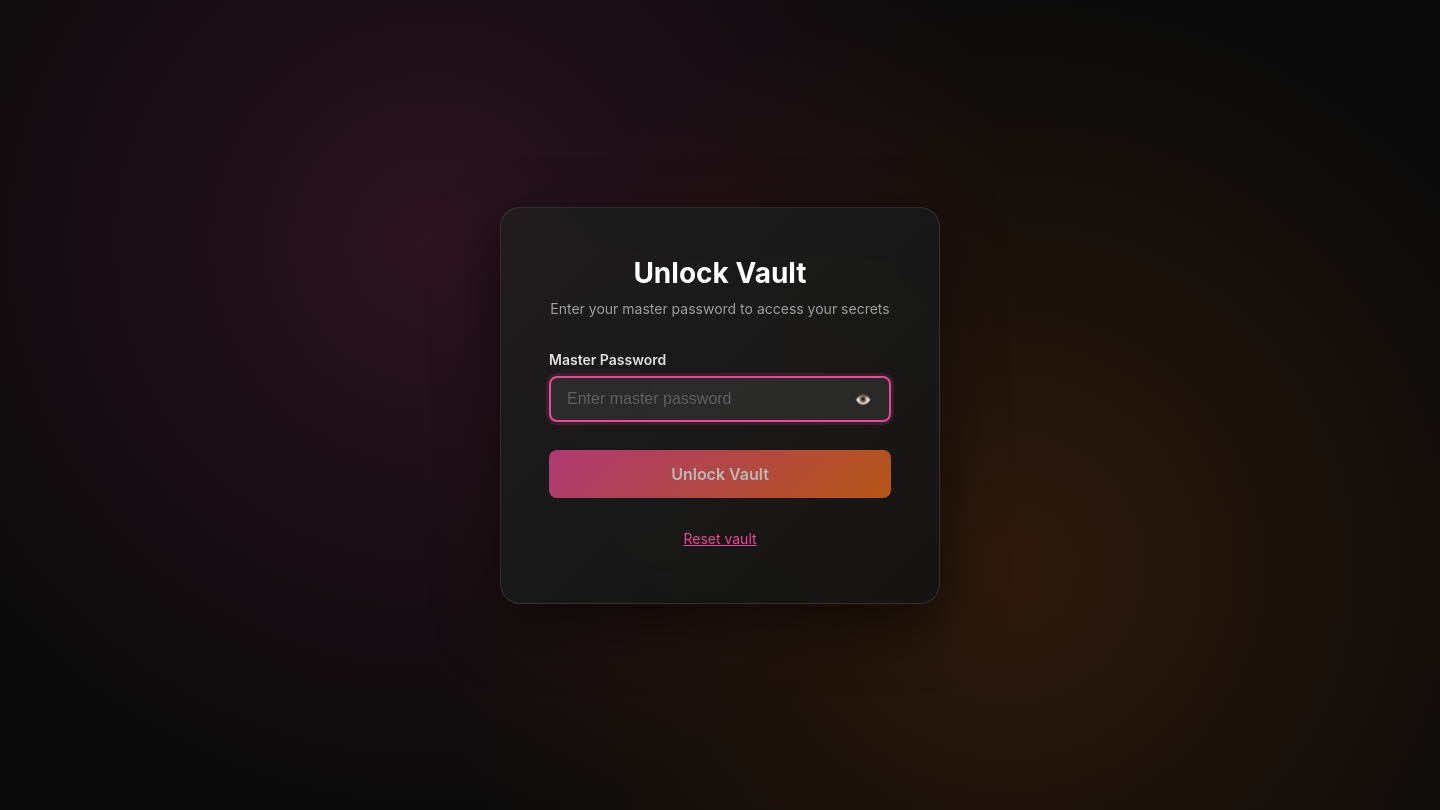
UnlockScreen › shows error message on incorrect password
This screenshot has width=1440, height=810.
Step 1. Type "wrongpassword" into the password field labelled "Master Password" → (720, 398), box [549,376,891,422]
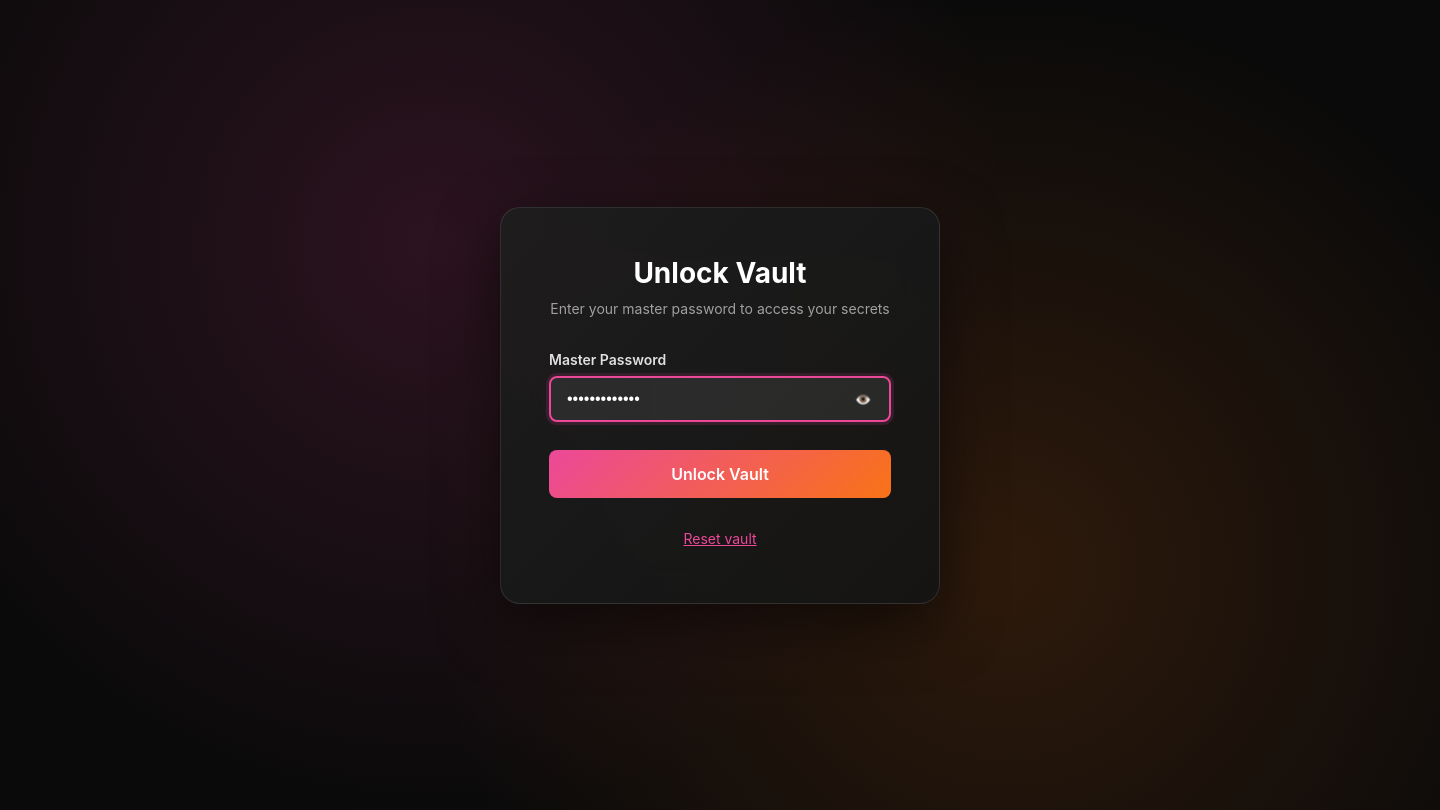
Step 2. Click the button "Unlock Vault" → click(720, 474), box [549,450,891,498]
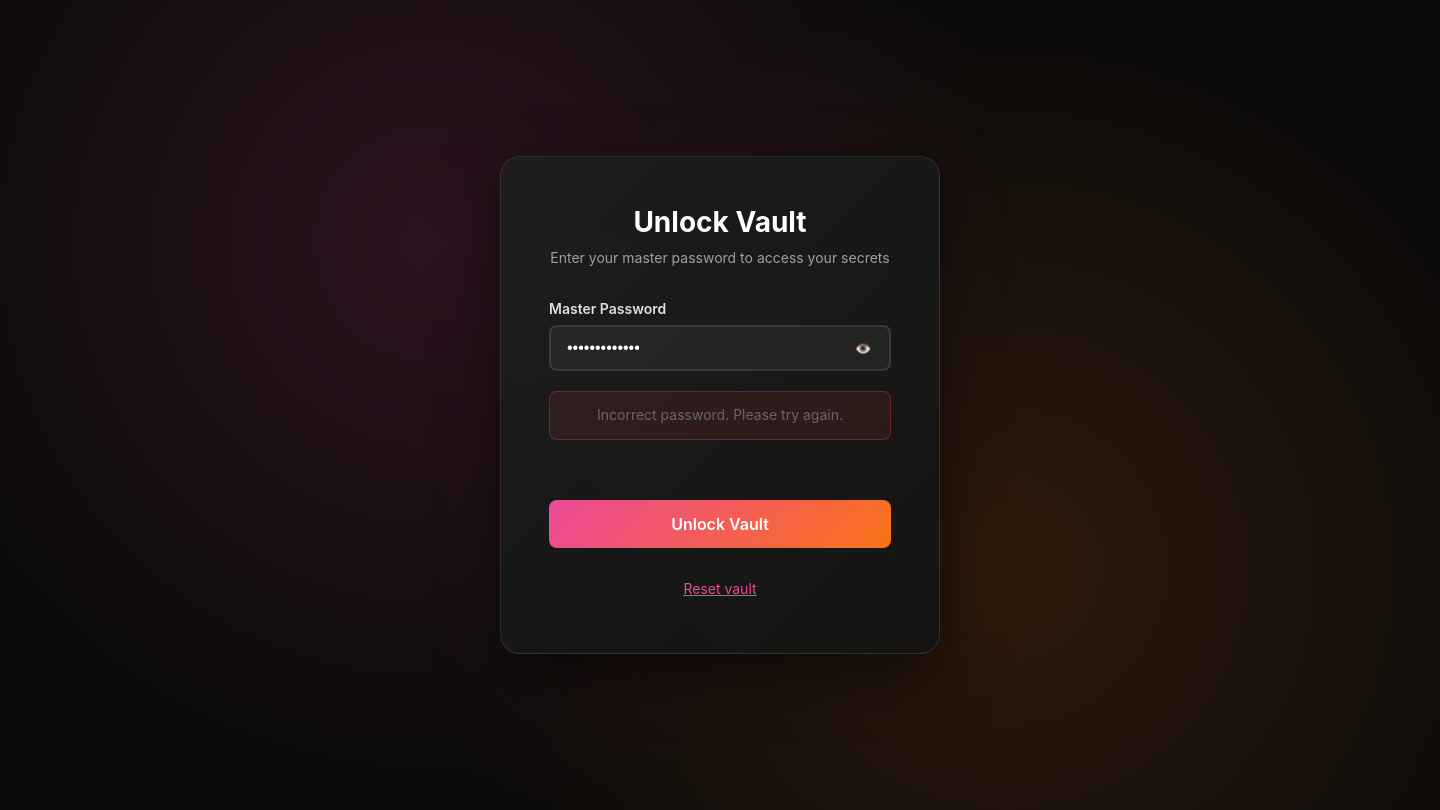
Expected: the text "Incorrect password. Please try again." is shown, [549,391,891,440]
